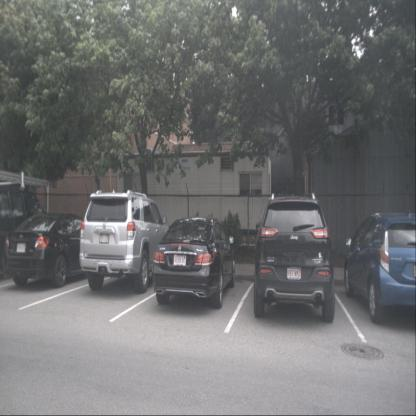vehicle-car: (255, 196, 335, 324), (80, 190, 169, 294), (343, 214, 416, 324), (153, 221, 235, 309), (0, 181, 65, 287), (3, 214, 86, 286)
